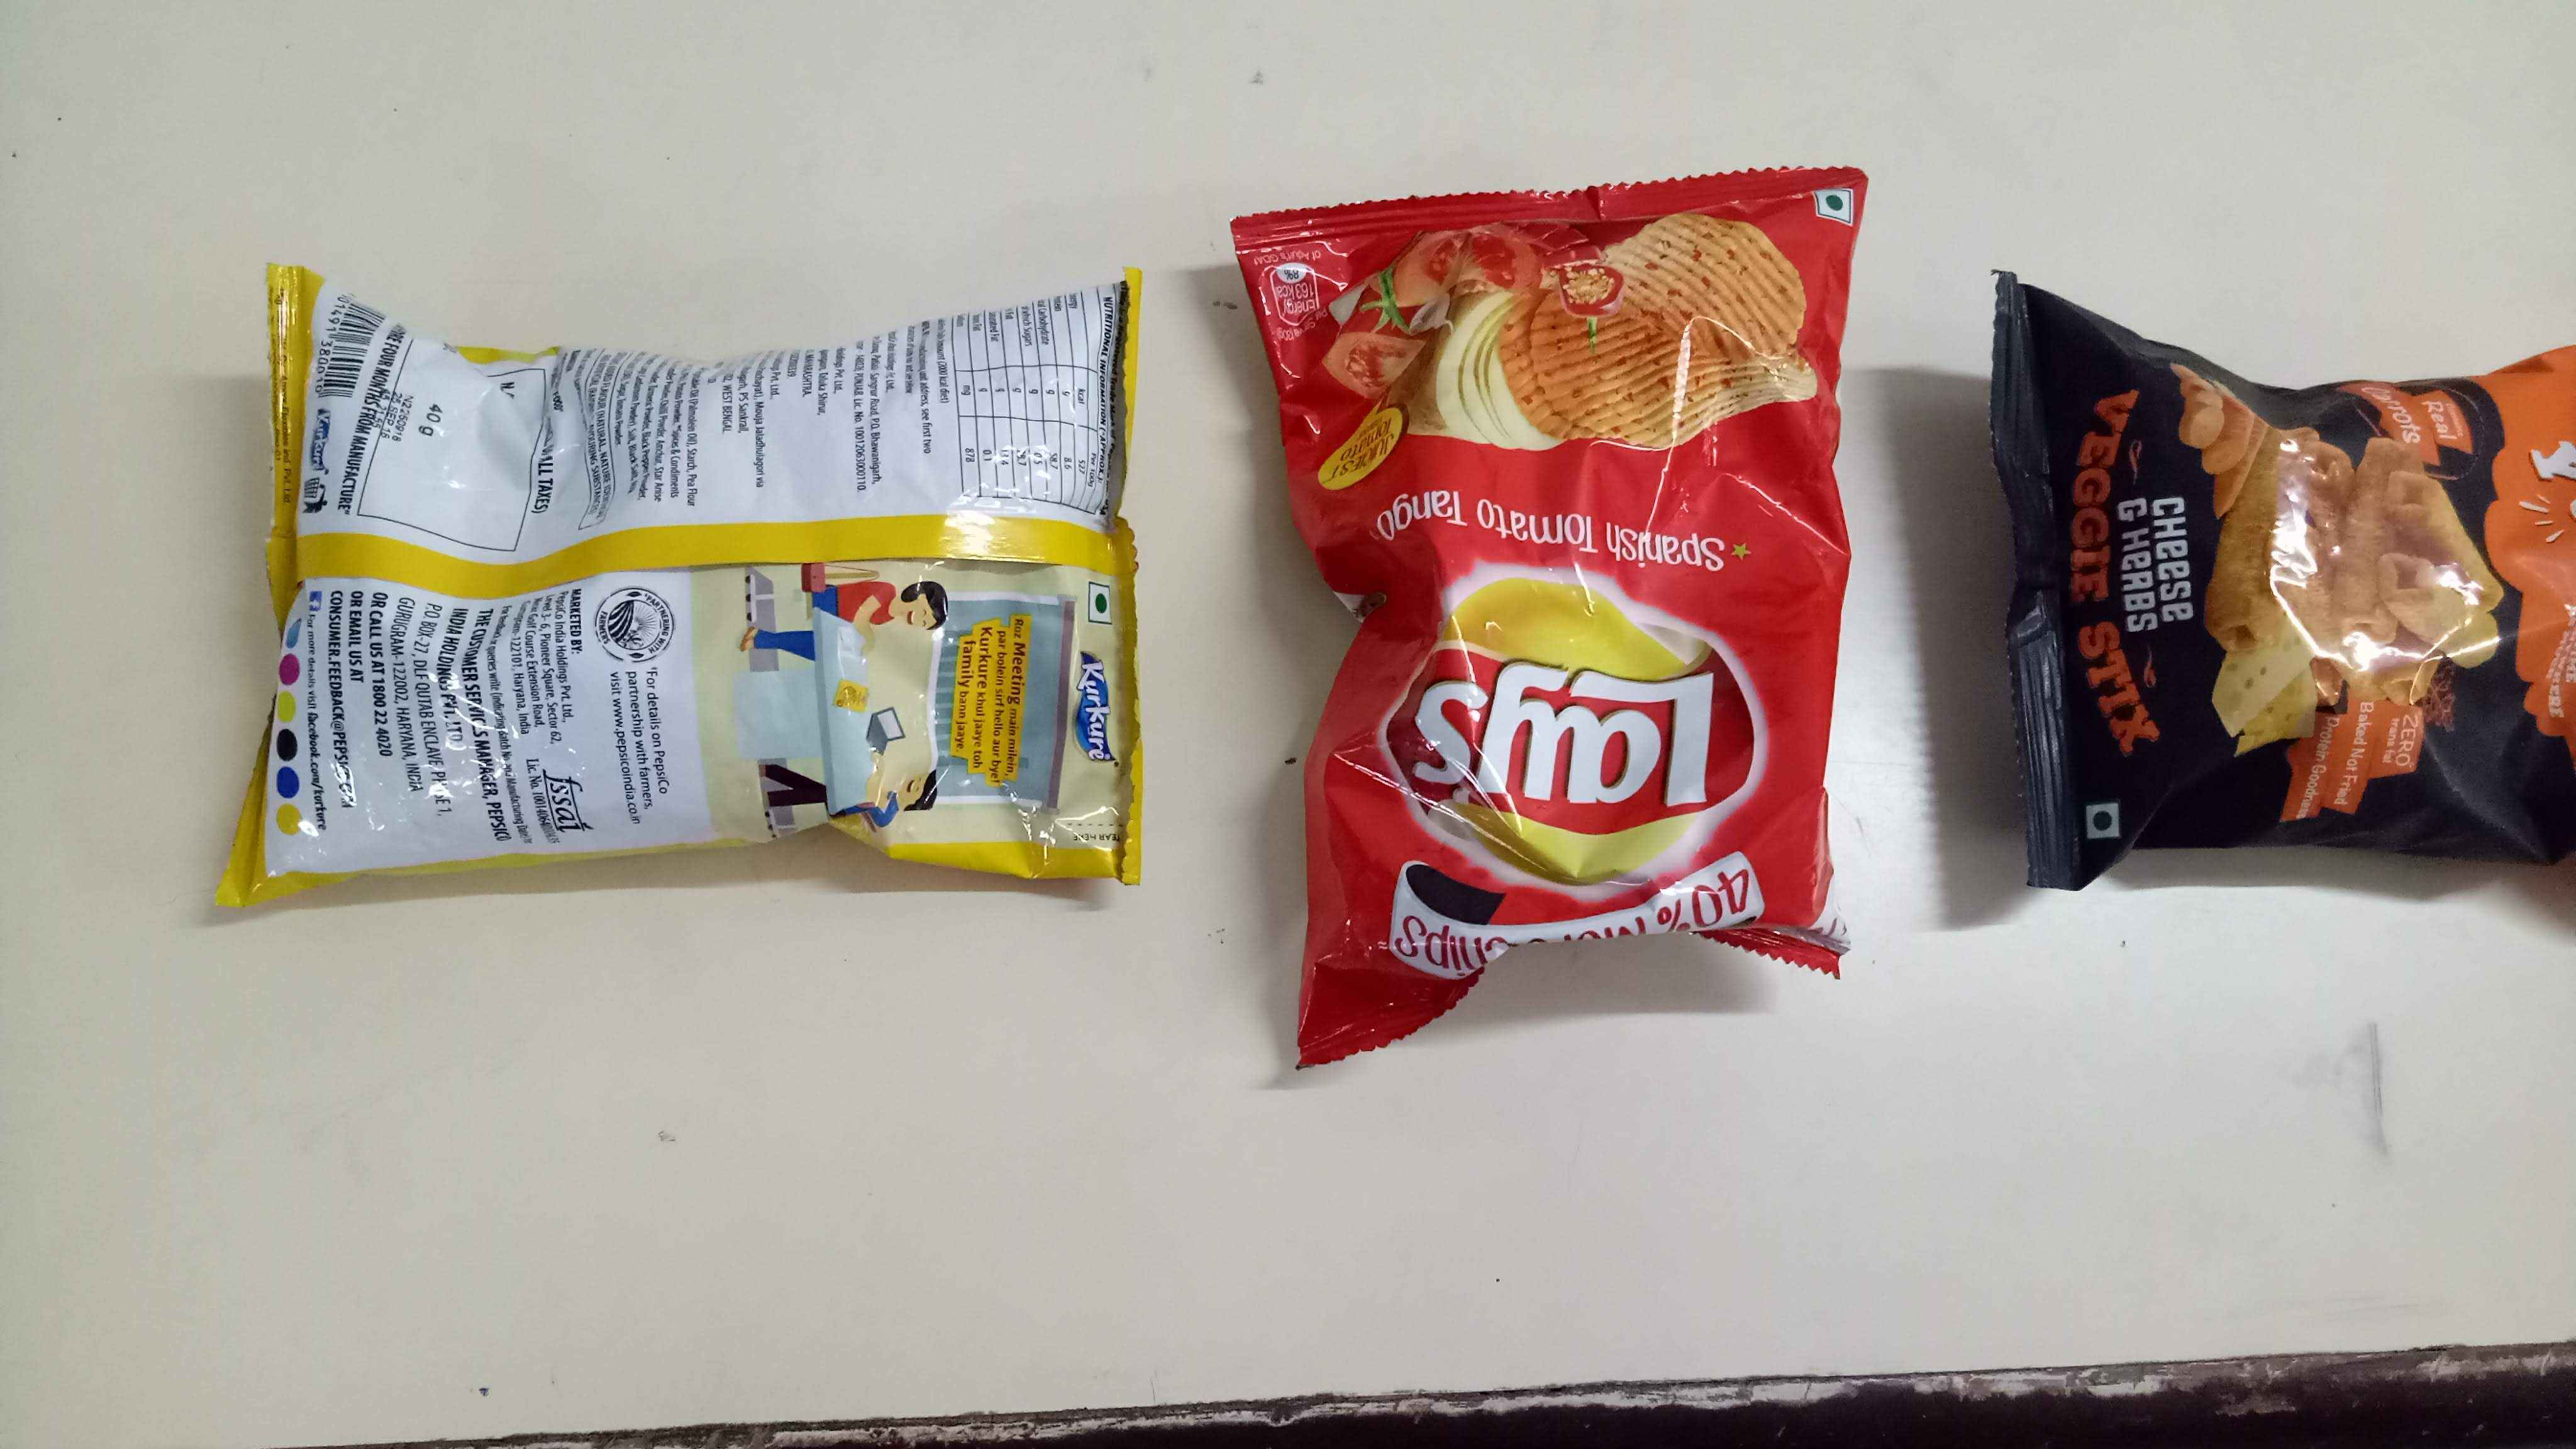Lays: (1396, 548, 1798, 888)
kurkure: (1060, 648, 1138, 773)
tooyumm: (2537, 414, 2576, 621)
